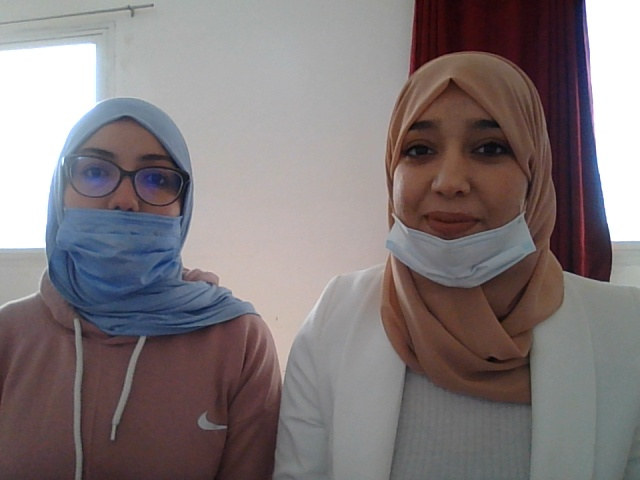mask_weared_incorrect: (372, 47, 543, 293), (34, 104, 203, 309)
